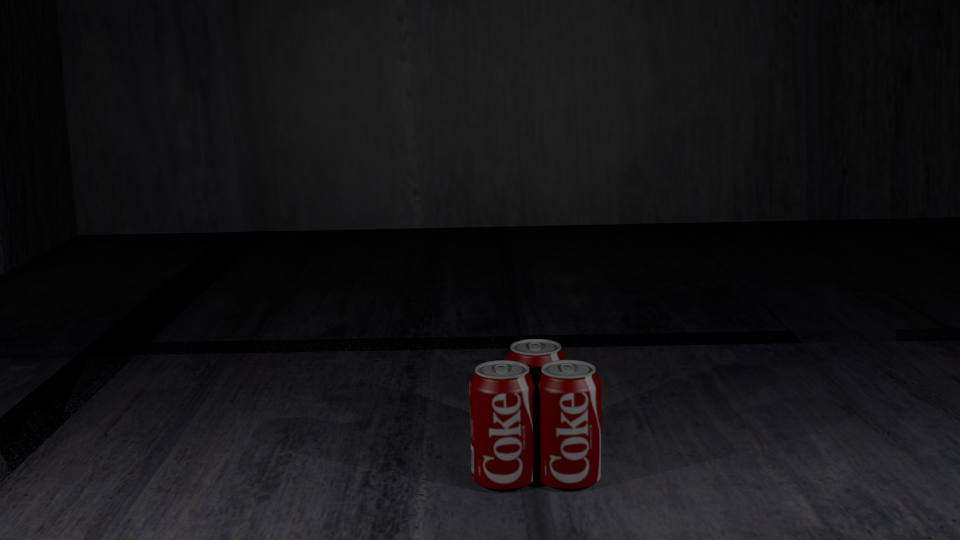cola_can: (470, 361, 534, 486), (536, 360, 600, 484), (506, 339, 565, 457)
